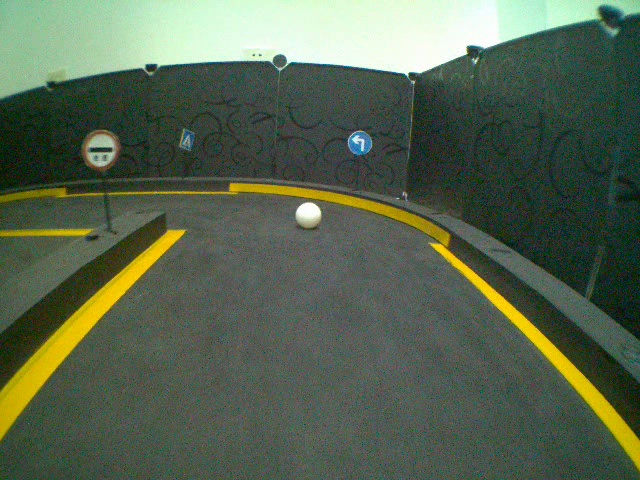ball: (294, 200, 322, 230)
